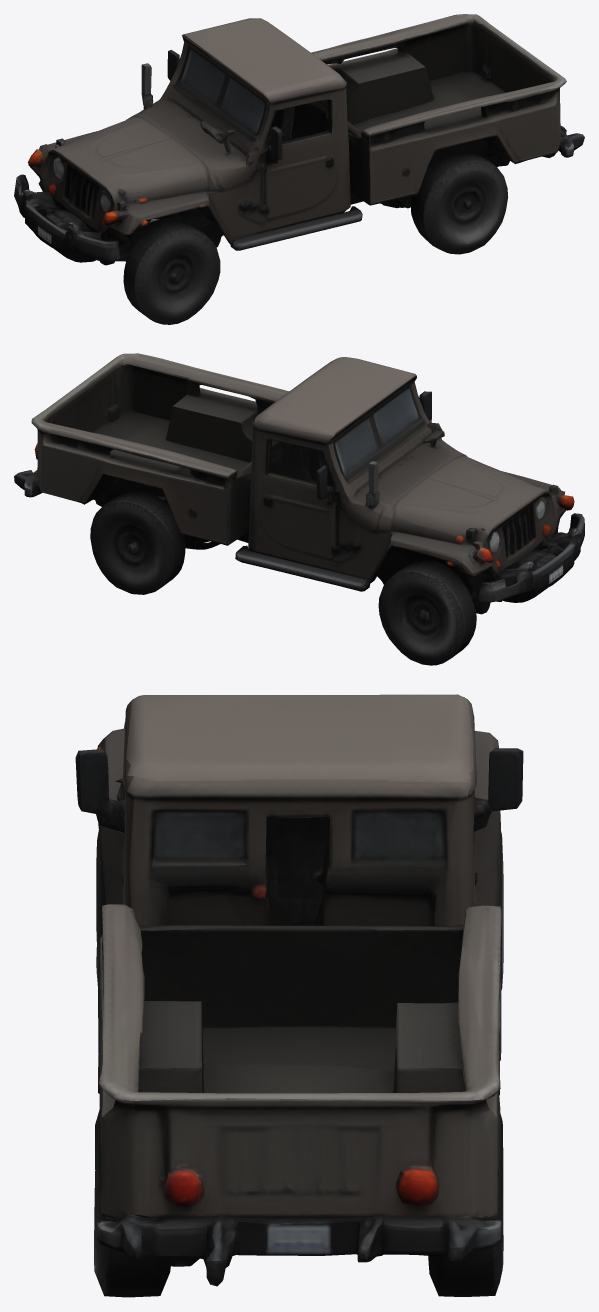
The model's file is pickup-truck.glb.
3 renders of one model, top to bottom at view 1: azimuth 30°, elevation 25°; view 2: azimuth 150°, elevation 25°; view 3: azimuth 270°, elevation 25°, orthographic. The views are drawn at different scales.
Visible parts, largest first — view 1: geometry_0; view 2: geometry_0; view 3: geometry_0.
Boxes of the visible parts, <box> form: geometry_0: <box>14,14,584,324</box>; geometry_0: <box>14,353,584,665</box>; geometry_0: <box>75,694,523,1297</box>.
Size of the model in its own units: 0.9995 by 0.3883 by 0.3877.
Materials: 1 (1 with a texture image).
